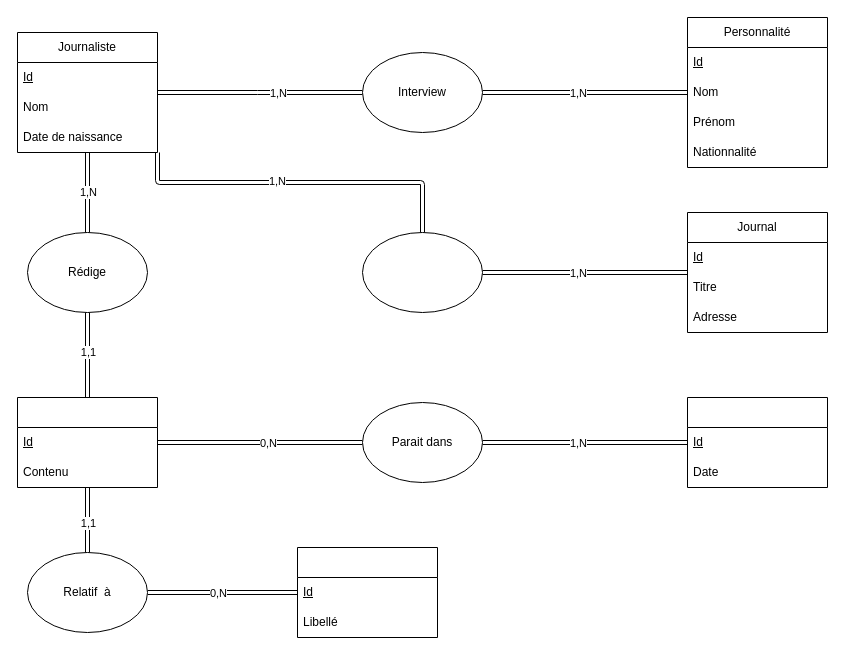
Image size: 845x655. Some labels were removed from this diagram. Each missing label, with the box of its shape:
Article: (16, 396, 158, 488)
Numéro: (686, 396, 828, 488)
Sujet: (296, 546, 438, 638)
À travaillé pour: (362, 232, 482, 312)
